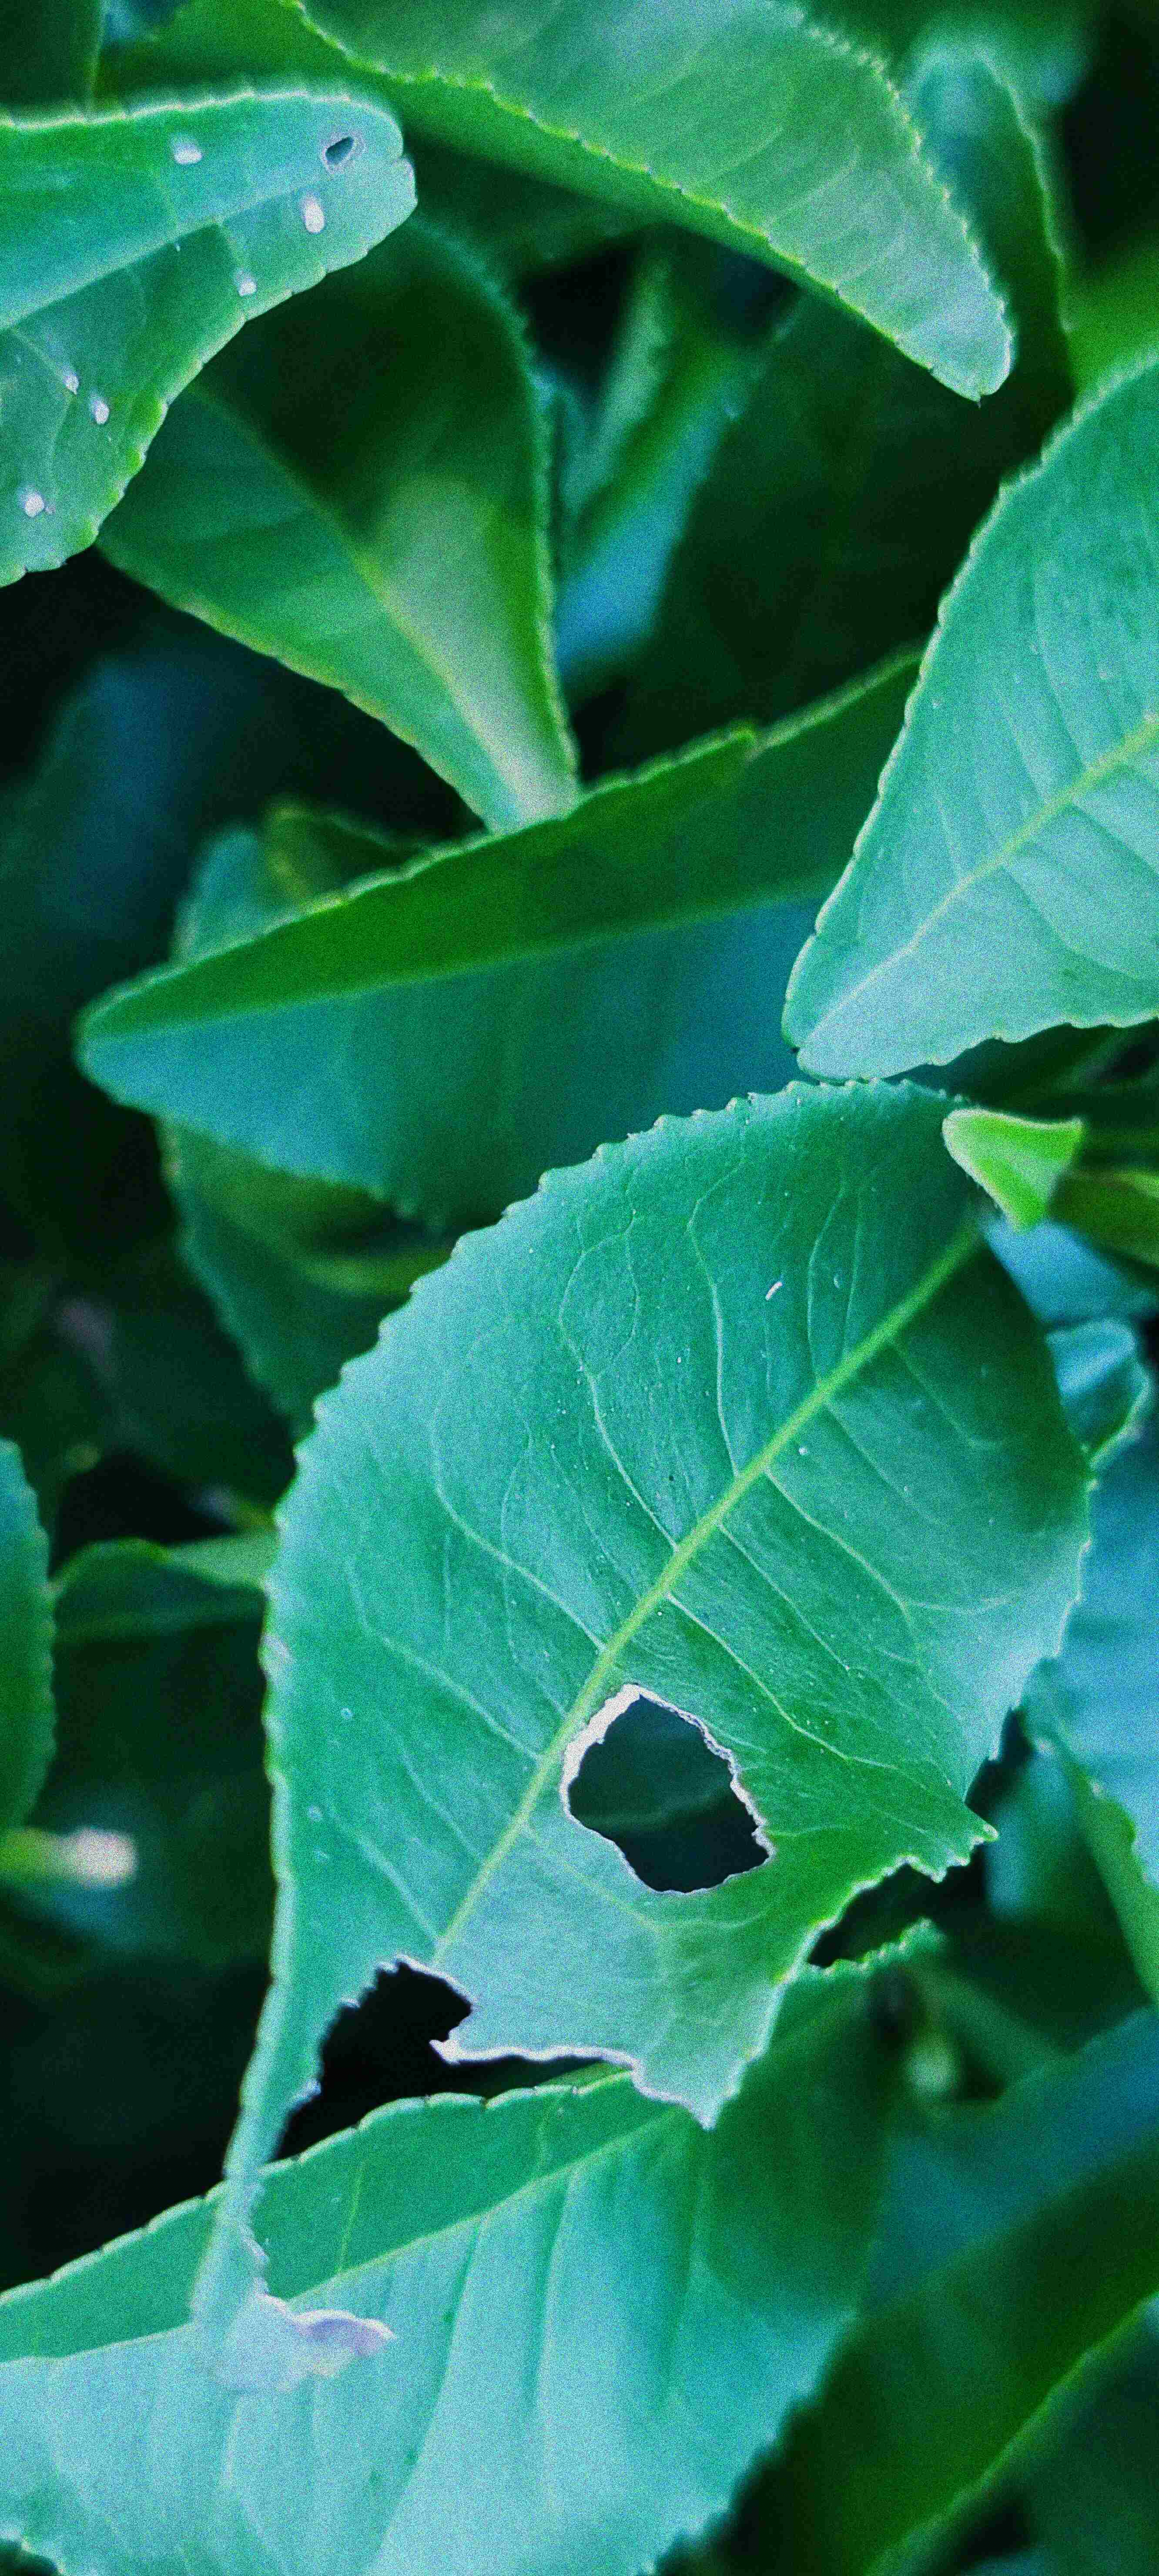chihuo_high: (182, 1073, 1102, 2392)
healthy: (69, 667, 924, 1226), (785, 365, 1159, 1086)
tanju_low: (3, 87, 424, 595)
